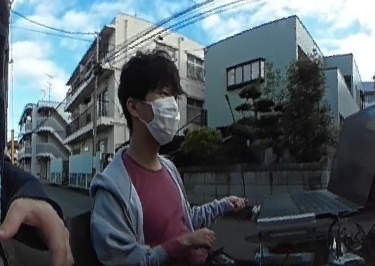person: (97, 57, 236, 266)
